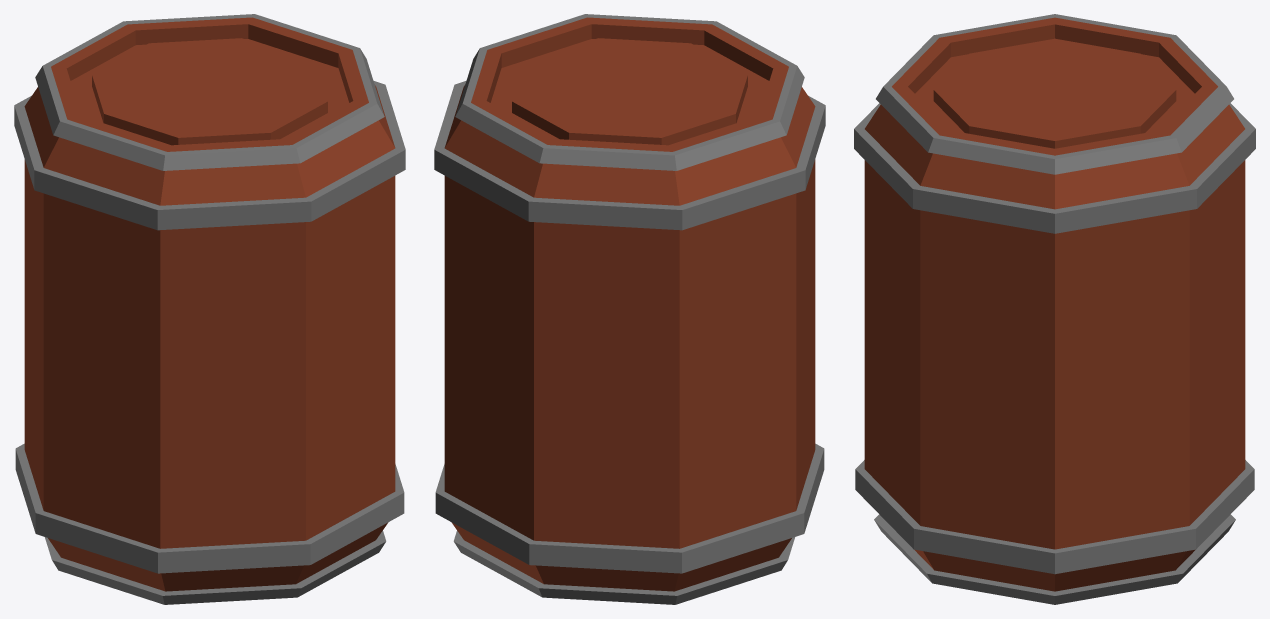
The model's file is Bochka.fbx.
3 renders of one model, left to right at view 1: azimuth 30°, elevation 25°; view 2: azimuth 150°, elevation 25°; view 3: azimuth 270°, elevation 25°, orthographic.
Visible parts, largest first — view 1: Cylinder.064; view 2: Cylinder.064; view 3: Cylinder.064.
Part boxes in pixels (x1=…): Cylinder.064: x1=14, y1=14, x2=405, y2=604; Cylinder.064: x1=434, y1=14, x2=825, y2=604; Cylinder.064: x1=854, y1=14, x2=1255, y2=604.
Bounding box in the file's own units: 1.6 × 1.96 × 1.6.
